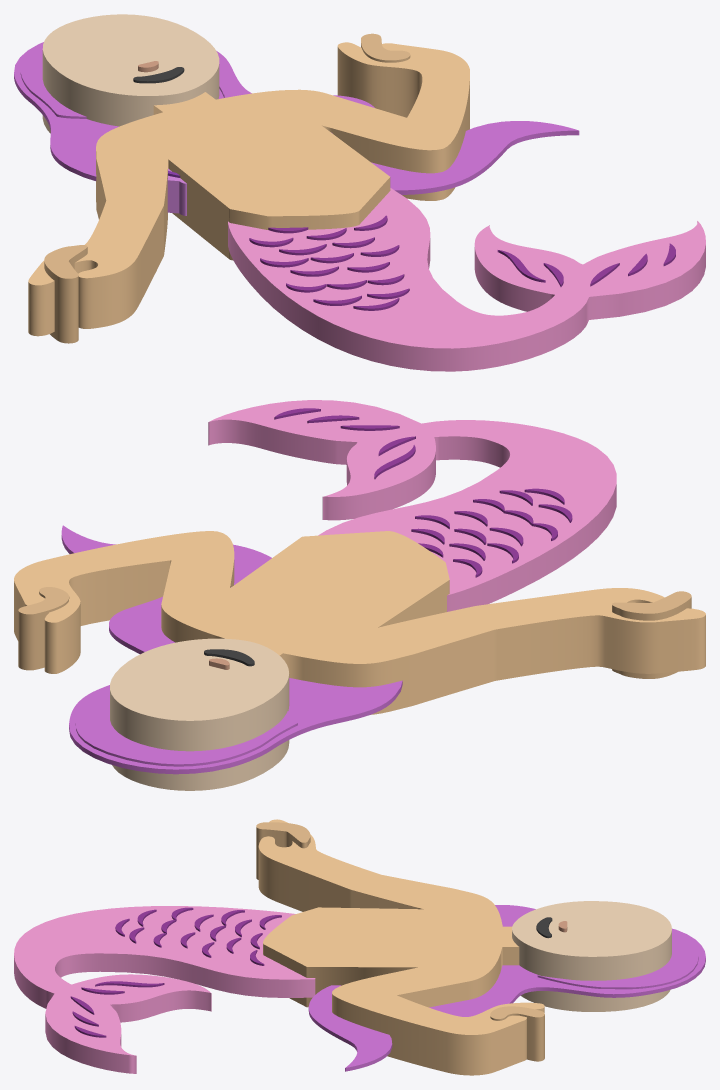
Rendered from emoji_u1f9dc_1f3fb_200d_2640.glb.
The picture shows the model from 3 angles, top to bottom: view 1: azimuth 30°, elevation 25°; view 2: azimuth 150°, elevation 25°; view 3: azimuth 270°, elevation 25°; orthographic projection. The views are drawn at different scales.
Visible parts, largest first — view 1: emoji_u1f9dc_1f3fb_200d_2640; view 2: emoji_u1f9dc_1f3fb_200d_2640; view 3: emoji_u1f9dc_1f3fb_200d_2640.
Part boxes in pixels (box(x1,y1,x2,y2)): emoji_u1f9dc_1f3fb_200d_2640: box(14, 14, 705, 371); emoji_u1f9dc_1f3fb_200d_2640: box(14, 400, 705, 790); emoji_u1f9dc_1f3fb_200d_2640: box(14, 819, 705, 1075).
Size of the model in its own units: 0.0268 by 0.0034 by 0.0341.
